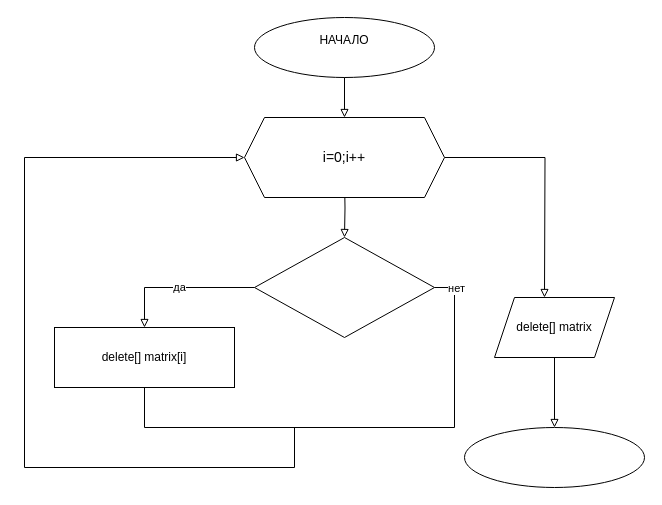
Image size: 662x505. Some labels were removed from this diagram. Each missing label, with the centre of its shape:
"i < rows" goes at pixel 344 287.
"КОНЕЦ" goes at pixel 554 457.
